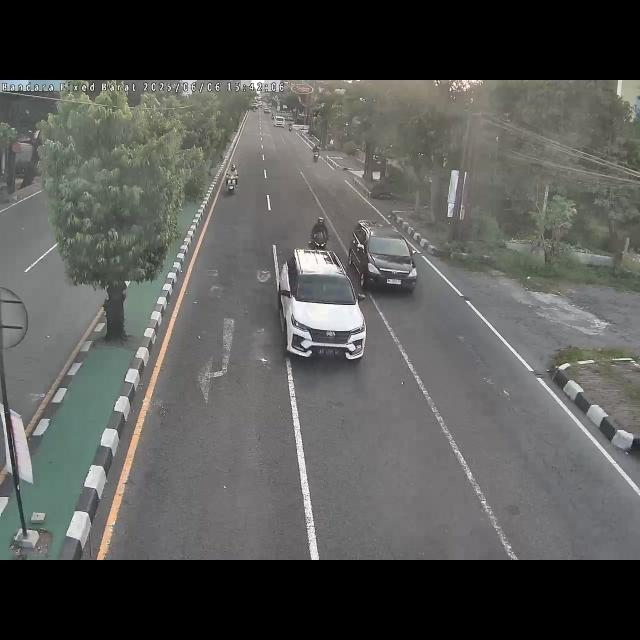Mobil: (276, 244, 366, 364), (347, 220, 418, 294)
Motor: (310, 216, 330, 256), (223, 162, 240, 196)
